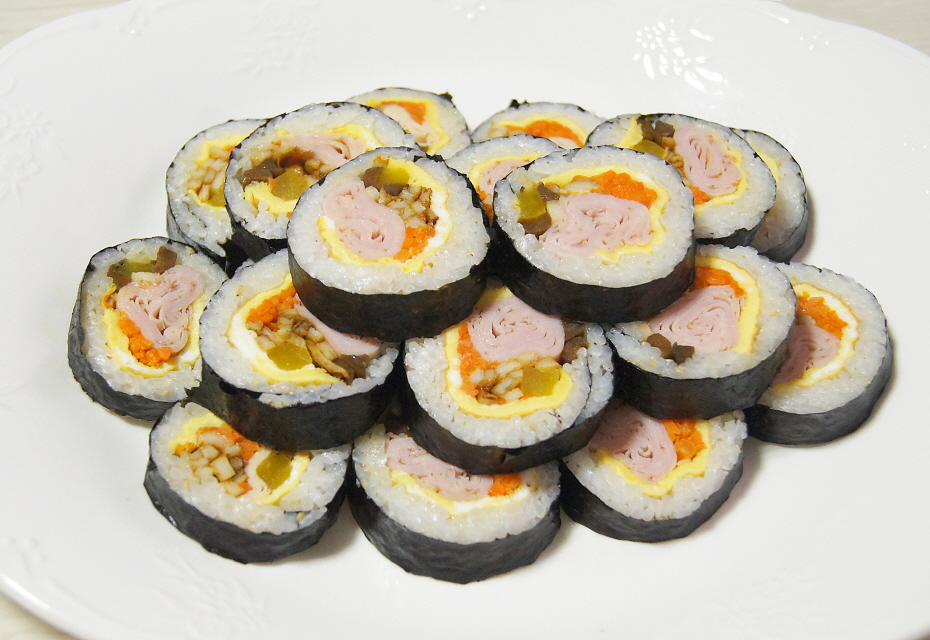gimbab: (62, 81, 898, 585)
